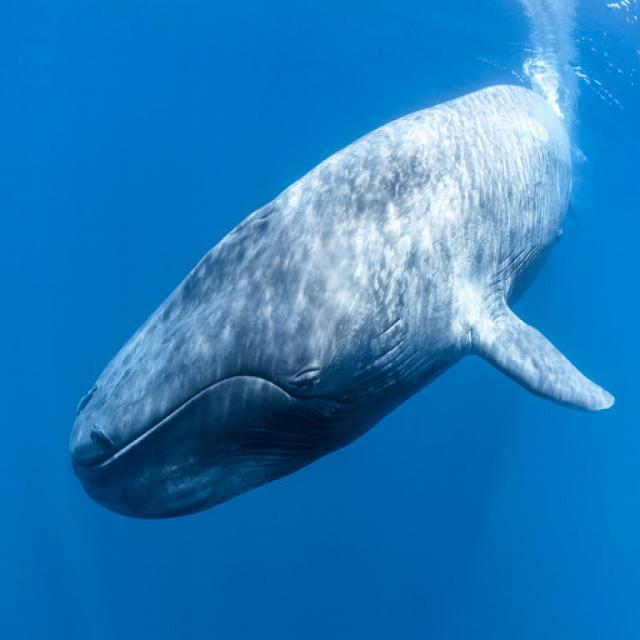blue_whale: (32, 80, 628, 596)
